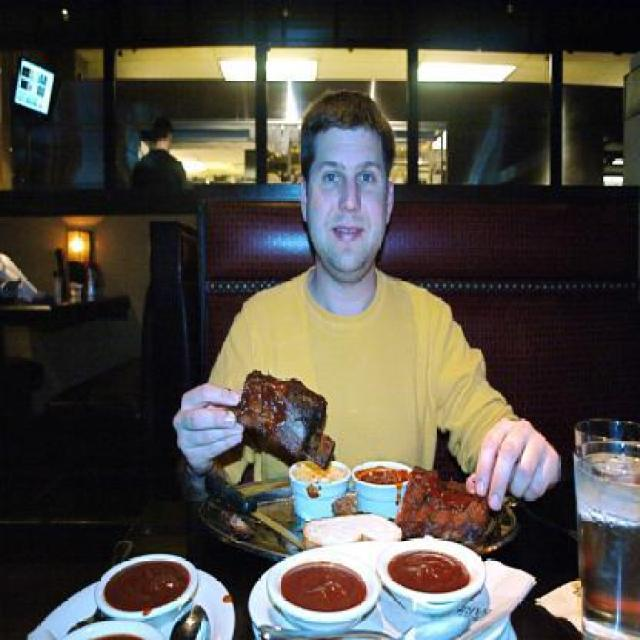Person: (172, 84, 560, 530), (132, 112, 180, 195)
